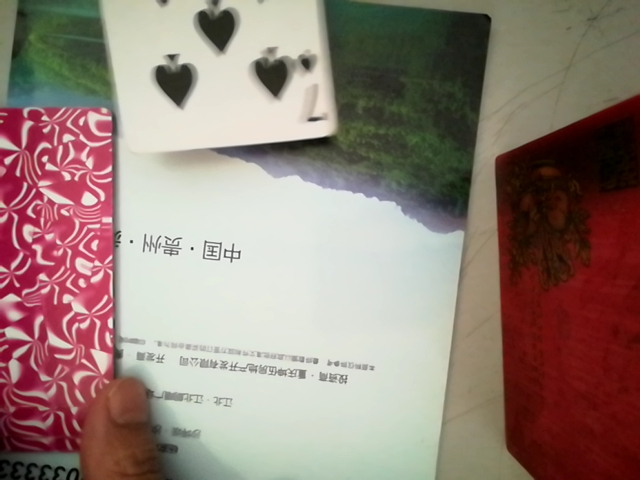ht 7: (103, 0, 334, 166)
